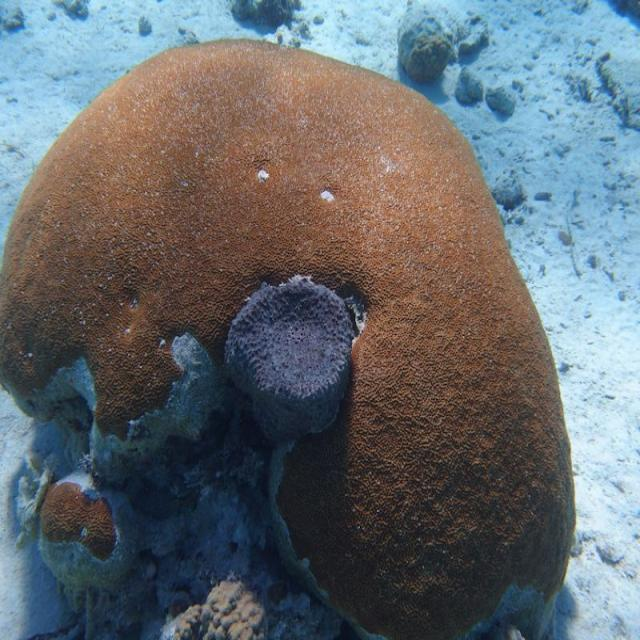Coral: (0, 40, 575, 640)
